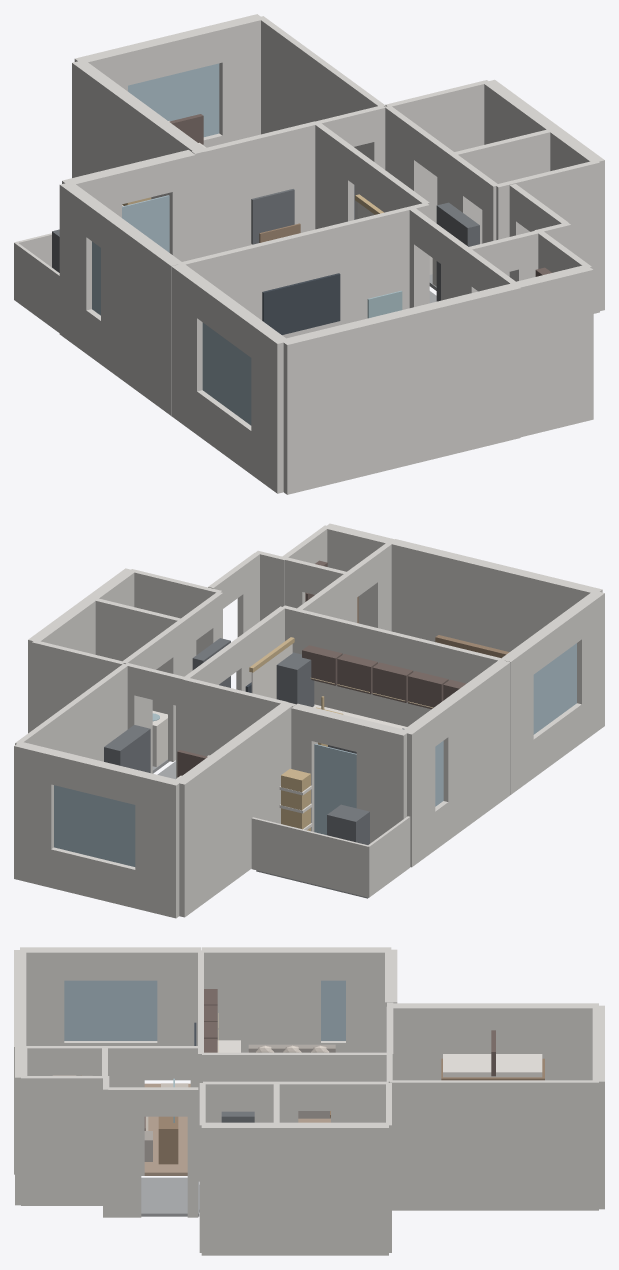
The model's file is kvartira-warm-school-guest.glb.
3 renders of one model, top to bottom at view 1: azimuth 30°, elevation 25°; view 2: azimuth 150°, elevation 25°; view 3: azimuth 270°, elevation 25°, orthographic. The views are drawn at different scales.
Parts seen in each view (by area): view 1: wall_w_l_s_166_612_0.0, wall_w_dividing_168_644_0.0, wall_w_closet_s_612_752_0.0, wall_w_k_w_559_791_0.0, wall_w_top_s_426_660_0.0, wall_w_top_w_20_423_0.0, wall_w_top_e_20_425_0.0, wall_w_wc_s_777_971_0.0, wall_w_l_w_1057_1143_0.0, wall_w_top_n_691_771_0.0, wall_w_bath_n_777_971_0.0, wall_w_k_w_423_511_0.0 (+40 smaller); view 2: wall_w_l_s_166_612_0.0, wall_w_top_w_20_423_0.0, wall_w_dividing_168_644_0.0, wall_w_k_w_559_791_0.0, wall_w_top_n_422_510_0.0, wall_w_log_n_159_409_0.0, wall_w_top_n_691_771_0.0, wall_w_top_e_20_425_0.0, wall_w_top_n_510_691_0.8, wall_w_k_n1_165_266_0.0, wall_w_k_n2_408_643_0.0, wall_w_bath_n_777_971_0.0 (+51 smaller); view 3: wall_w_top_e_20_425_0.0, wall_w_bath_e_427_791_0.0, wall_w_top_w_20_423_0.0, wall_w_k_w_559_791_0.0, wall_w_closet_e_978_1141_0.0, wall_w_l_w_877_1057_0.8, wall_w_entry_e_908_972_0.0, wall_w_l_w_792_877_0.0, wall_w_k_w_423_511_0.0, wall_w_l_w_1057_1143_0.0, wall_w_l_w_877_1057_2.1, wall_w_k_e_625_790_0.0 (+30 smaller).
Part boxes in pixels (<box>): wall_w_l_s_166_612_0.0: <box>281,283,520,494</box>; wall_w_dividing_168_644_0.0: <box>178,202,429,338</box>; wall_w_closet_s_612_752_0.0: <box>516,265,593,437</box>; wall_w_k_w_559_791_0.0: <box>101,212,182,415</box>; wall_w_top_s_426_660_0.0: <box>204,119,327,256</box>; wall_w_top_w_20_423_0.0: <box>72,60,204,199</box>; wall_w_top_e_20_425_0.0: <box>258,16,385,219</box>; wall_w_wc_s_777_971_0.0: <box>495,161,599,313</box>; wall_w_l_w_1057_1143_0.0: <box>251,322,289,493</box>; wall_w_top_n_691_771_0.0: <box>216,14,263,143</box>; wall_w_bath_n_777_971_0.0: <box>385,80,489,223</box>; wall_w_k_w_423_511_0.0: <box>59,183,98,353</box>; wall_w_l_s_166_612_0.0: <box>390,539,602,651</box>; wall_w_top_w_20_423_0.0: <box>174,703,292,917</box>; wall_w_dividing_168_644_0.0: <box>282,605,505,726</box>; wall_w_k_w_559_791_0.0: <box>437,659,510,840</box>; wall_w_top_n_422_510_0.0: <box>135,771,181,918</box>; wall_w_log_n_159_409_0.0: <box>251,817,368,897</box>; wall_w_top_n_691_771_0.0: <box>14,742,56,887</box>; wall_w_top_e_20_425_0.0: <box>15,663,127,761</box>; wall_w_top_n_510_691_0.8: <box>54,785,135,866</box>; wall_w_k_n1_165_266_0.0: <box>356,719,409,843</box>; wall_w_k_n2_408_643_0.0: <box>183,679,295,756</box>; wall_w_bath_n_777_971_0.0: <box>32,641,124,730</box>; wall_w_top_e_20_425_0.0: <box>390,1080,598,1210</box>; wall_w_bath_e_427_791_0.0: <box>201,1122,388,1255</box>; wall_w_top_w_20_423_0.0: <box>391,1003,598,1080</box>; wall_w_k_w_559_791_0.0: <box>201,947,320,1052</box>; wall_w_closet_e_978_1141_0.0: <box>21,1076,104,1205</box>; wall_w_l_w_877_1057_0.8: <box>64,980,157,1040</box>; wall_w_entry_e_908_972_0.0: <box>108,1087,141,1217</box>; wall_w_l_w_792_877_0.0: <box>157,947,200,1080</box>; wall_w_k_w_423_511_0.0: <box>346,947,391,1052</box>; wall_w_l_w_1057_1143_0.0: <box>20,947,64,1045</box>; wall_w_l_w_877_1057_2.1: <box>64,947,157,980</box>; wall_w_k_e_625_790_0.0: <box>202,1052,286,1111</box>.
Size of the model in its own units: 8.24 by 2.77 by 11.41.
